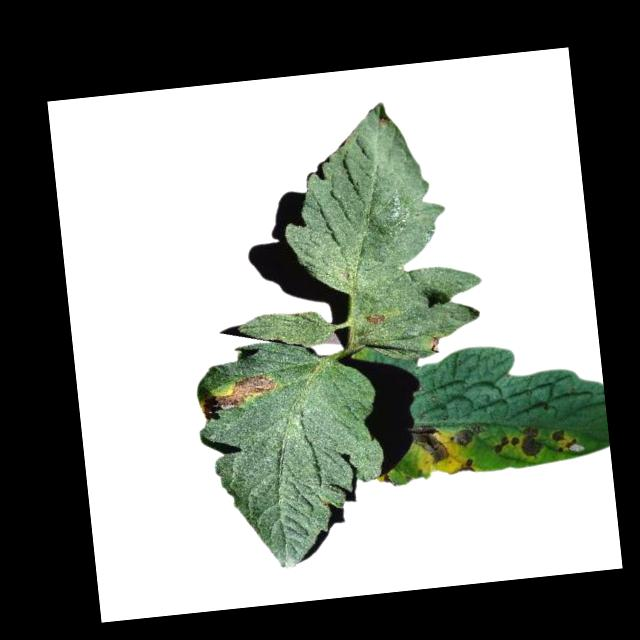Early_blight: (196, 373, 290, 424), (407, 422, 450, 465), (550, 428, 582, 460), (519, 426, 546, 463), (492, 433, 520, 458), (454, 424, 480, 448), (450, 456, 478, 477), (368, 310, 392, 328), (428, 335, 444, 355)
